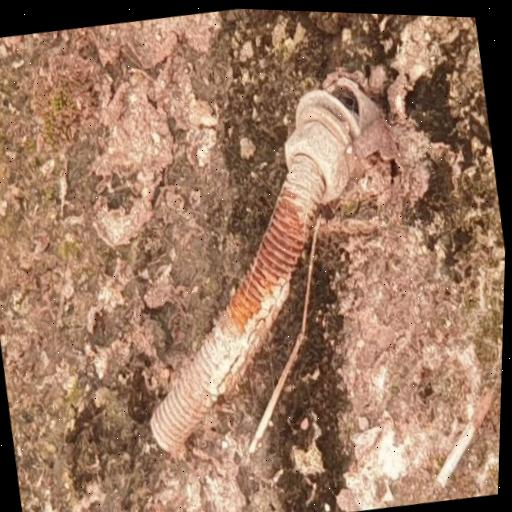exposed_rebar: (150, 76, 379, 452)
